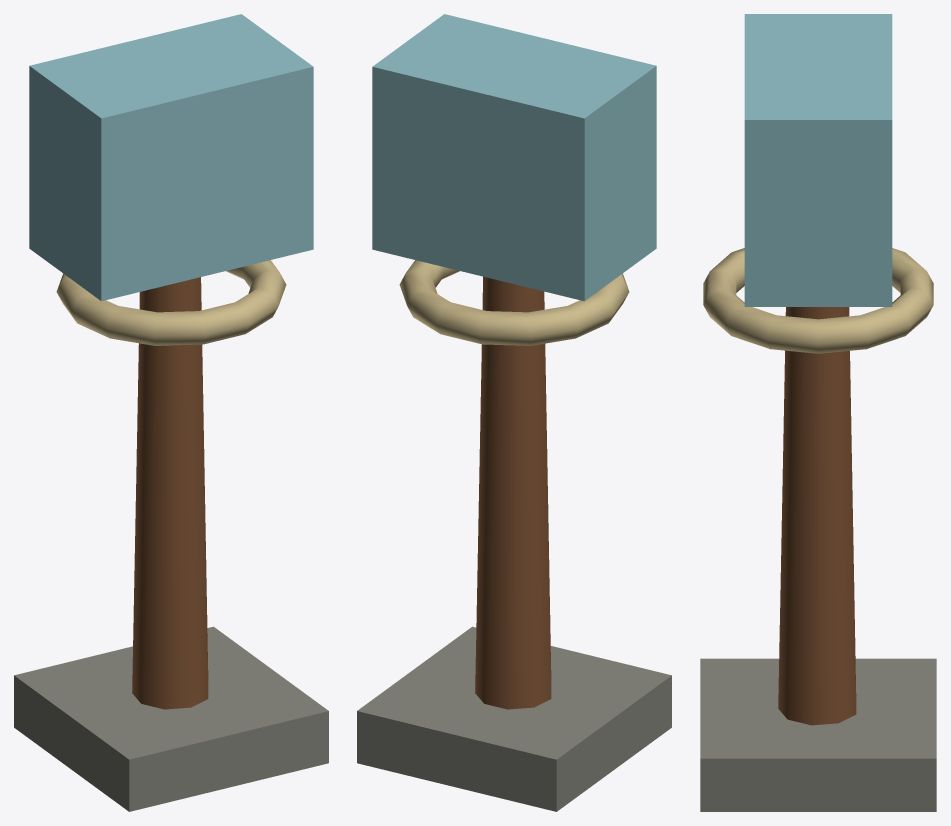
File: mailbox.glb
The picture shows the model from 3 angles, left to right: view 1: azimuth 30°, elevation 25°; view 2: azimuth 150°, elevation 25°; view 3: azimuth 270°, elevation 25°; orthographic projection. The views are drawn at different scales.
Parts seen in each view (by area): view 1: head, base, post, detail_ring; view 2: head, base, post, detail_ring; view 3: head, base, post, detail_ring.
Boxes of the visible parts, x1,y1,x2,y2 form: head: (29, 14, 313, 301); base: (14, 626, 328, 811); post: (132, 277, 208, 709); detail_ring: (56, 260, 286, 345); head: (372, 14, 656, 301); base: (357, 626, 671, 811); post: (475, 276, 551, 709); detail_ring: (399, 260, 629, 345); head: (744, 14, 892, 306); base: (700, 658, 936, 811); post: (778, 307, 856, 725); detail_ring: (703, 248, 933, 353).
Size of what is drawn, in the model's own units: 0.85 by 2.6 by 0.8.
